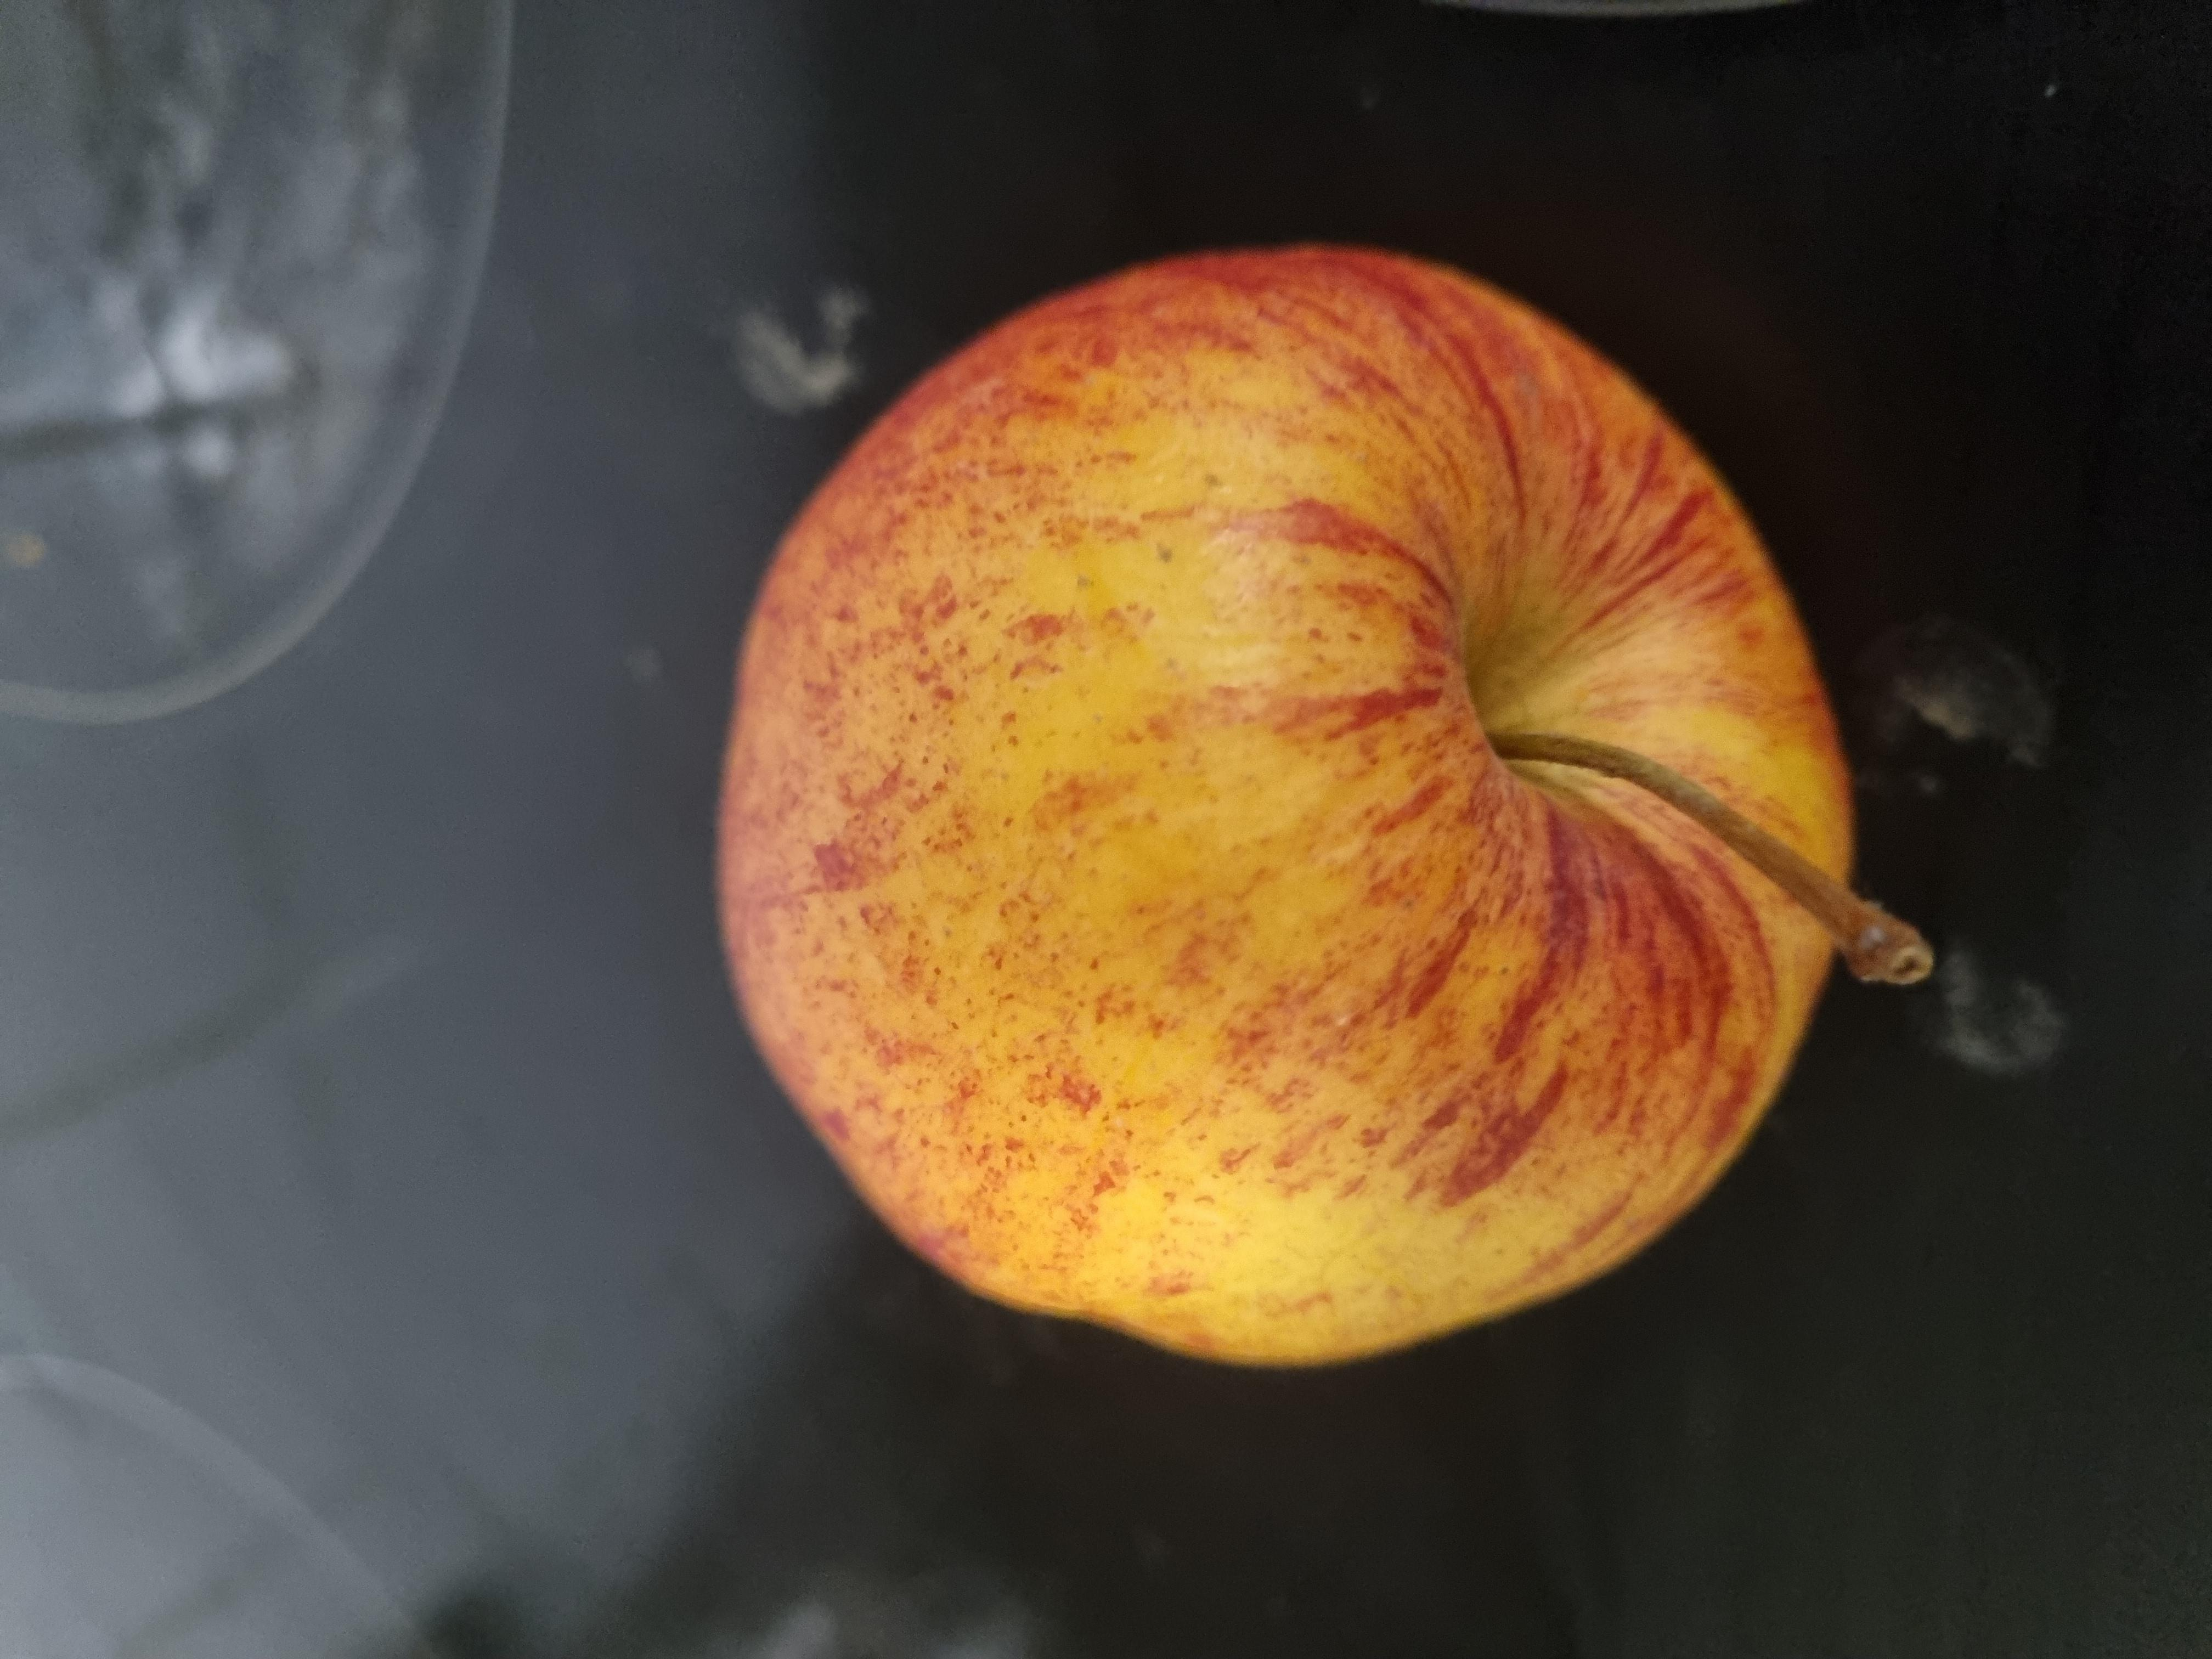Apple: (374, 514, 1902, 1473)
